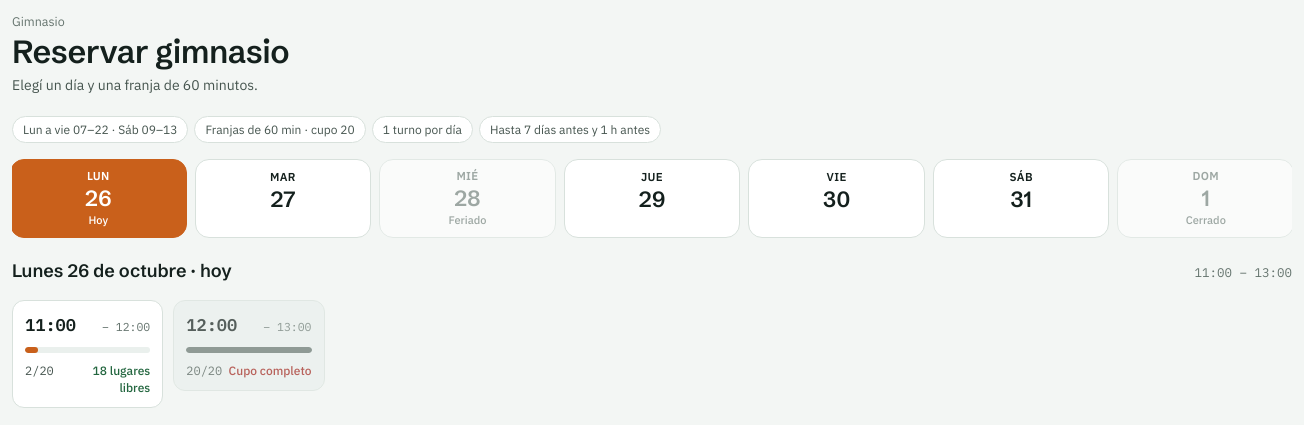
Scenario: ReservarGimnasioPage › un feriado con cierre muestra el aviso y no pide el cupo
Expected: the button "11:00 – 12:00 2/20 18 lugares libres" is shown, [12, 300, 163, 408]
Click the button with aria-label "Mié 28, Feriado": click(468, 198) [379, 159, 556, 238]
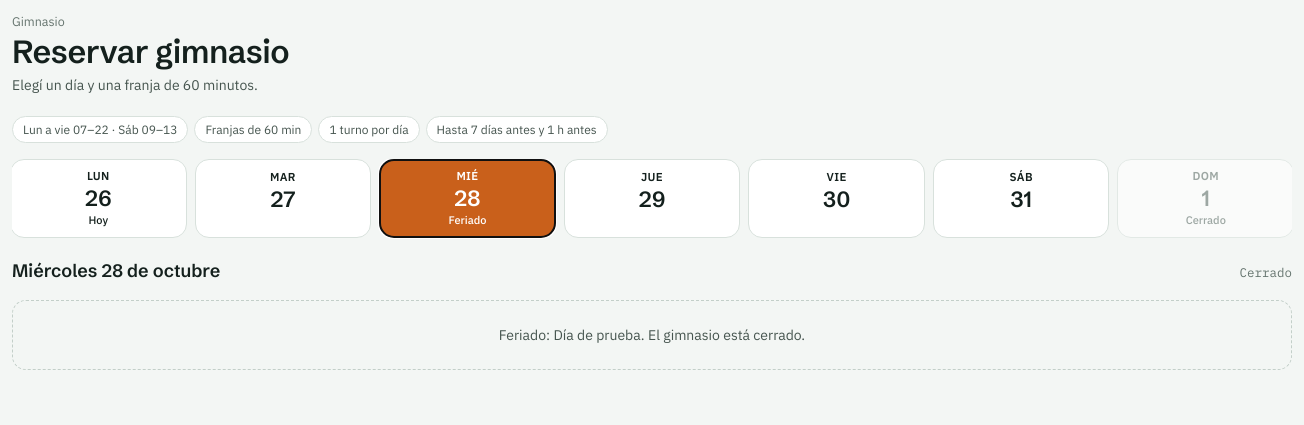
Now the text "Feriado: Día de prueba. El gimnasio está cerrado." is shown, box [12, 300, 1292, 370]
Now the button "lugares libres" is gone
